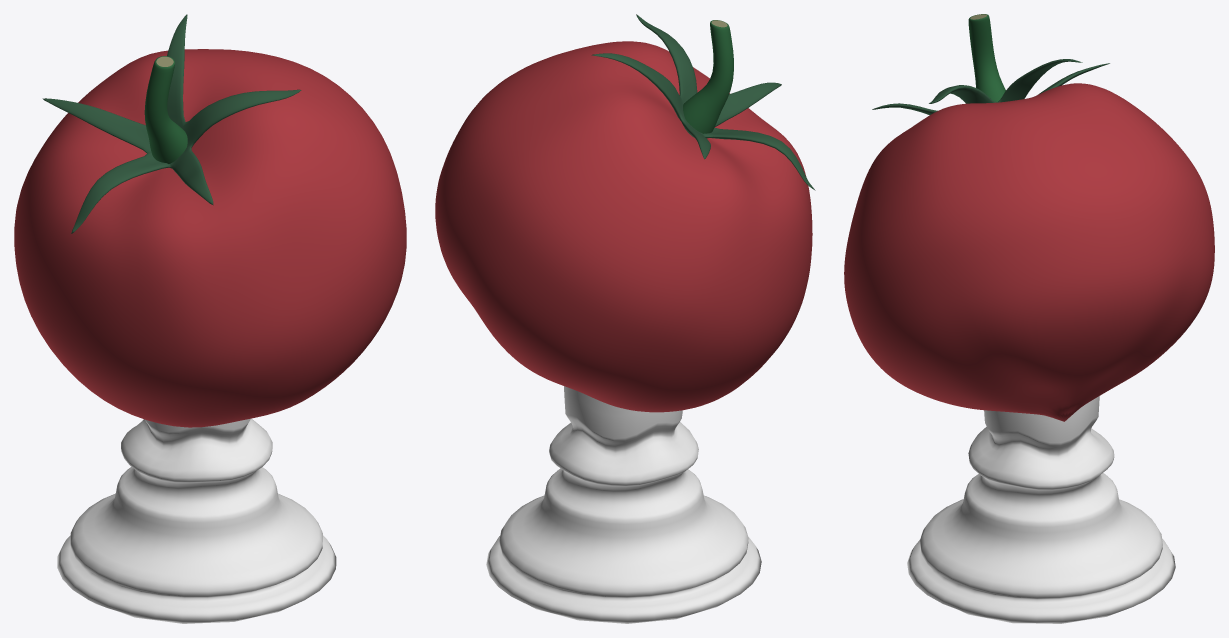
Rendered from TOMATO.fbx.
3 views of the same model, side by side, from view 1: azimuth 30°, elevation 25°; view 2: azimuth 150°, elevation 25°; view 3: azimuth 270°, elevation 25° (orthographic). The views are drawn at different scales.
Parts seen in each view (by area): view 1: pCylinder19; view 2: pCylinder19; view 3: pCylinder19.
Part boxes in pixels (x1,y1,x2,y2): pCylinder19: [14, 14, 406, 623]; pCylinder19: [435, 14, 815, 623]; pCylinder19: [844, 14, 1214, 623].
Size of the model in its own units: 8.99 by 14.25 by 8.98.
